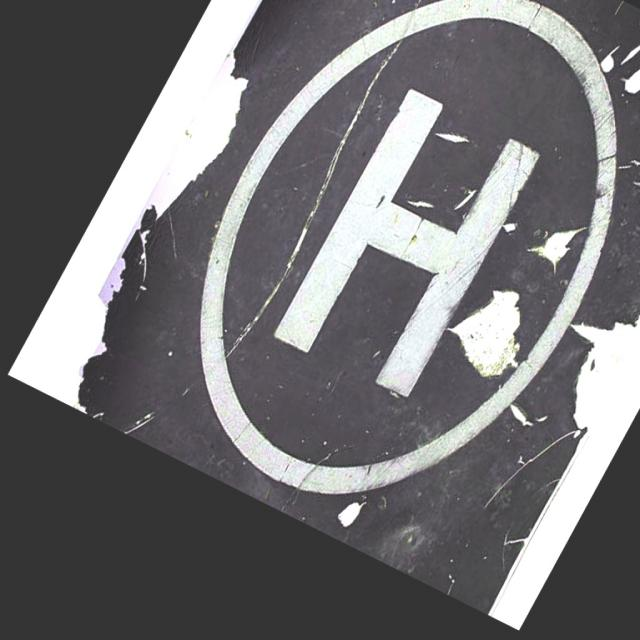helipad: (193, 0, 622, 504)
